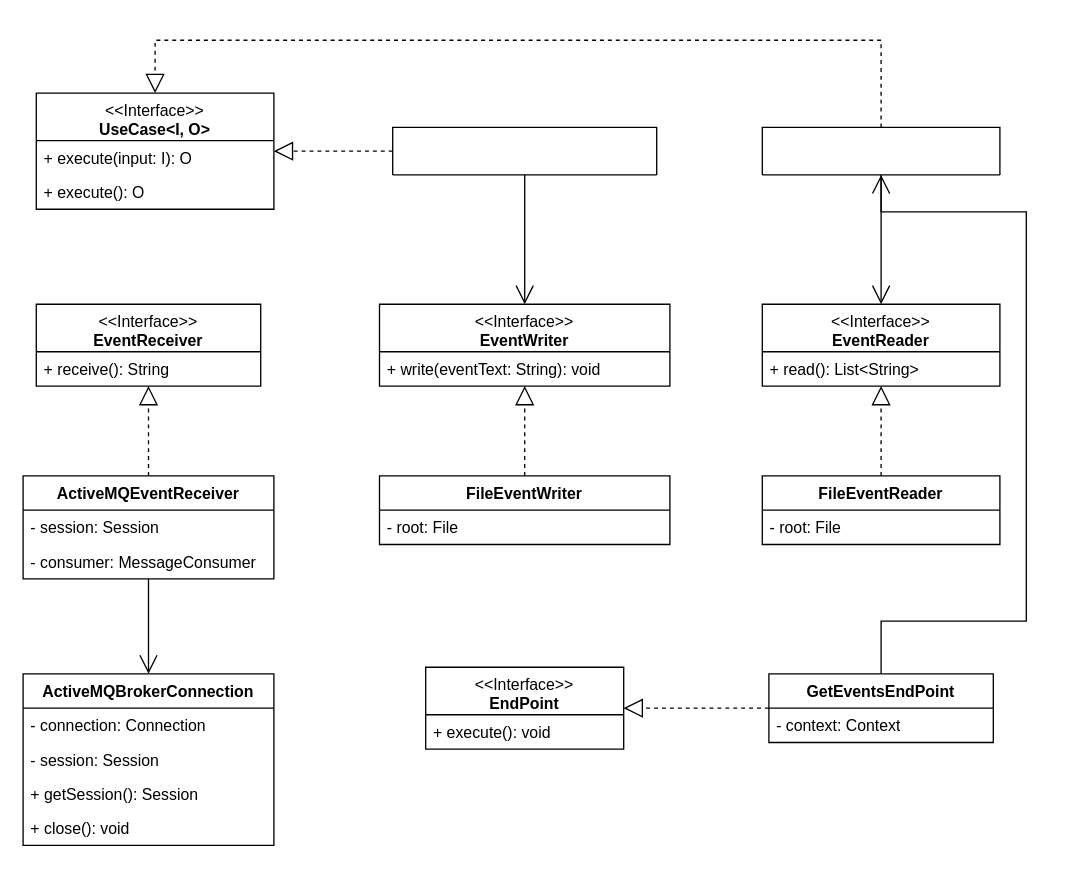
Some shapes in this 1068 by 873 pixel diagram are drawn without their labels. The centre of each missing label's shape, as x and y in pixels:
GetEventsUseCase: pixel 880 150
StoreEventUseCase: pixel 524 150
